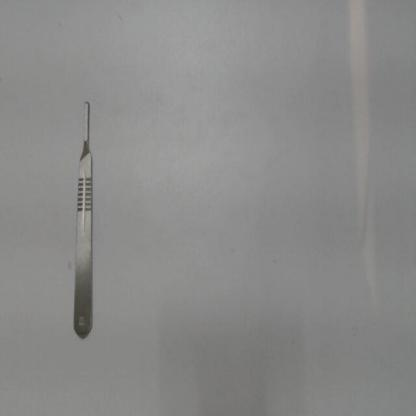No.4 BP Handle: (69, 97, 97, 346)
